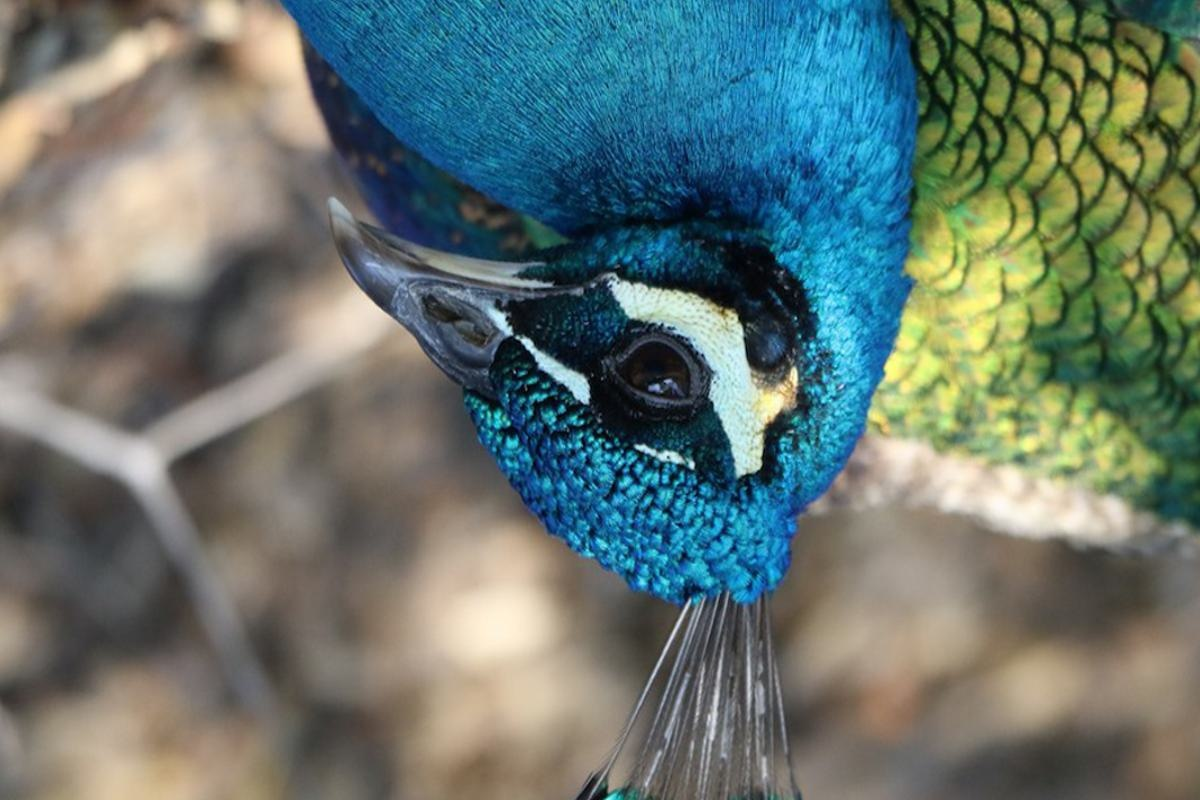peacock: (289, 18, 1157, 770)
